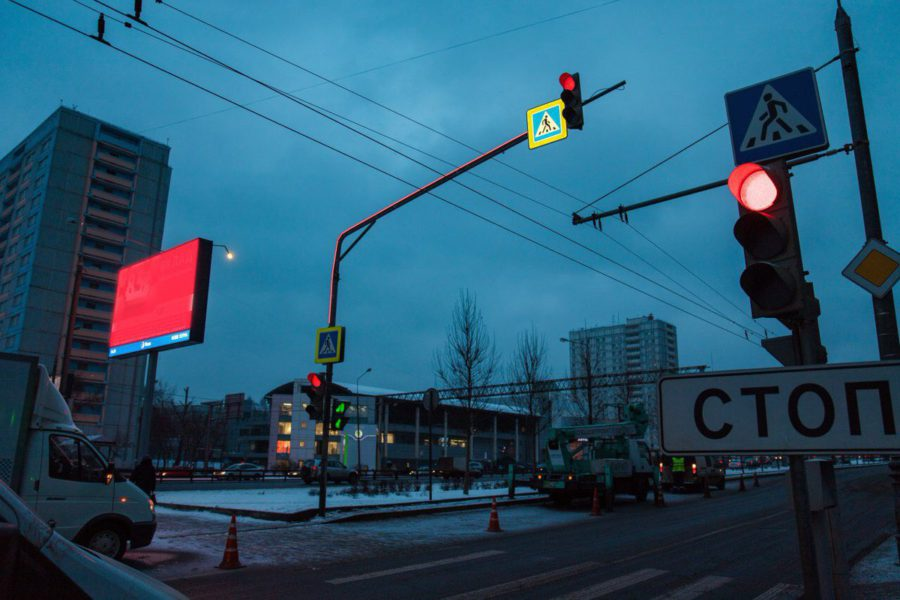tl: (729, 163, 815, 316), (555, 70, 592, 128), (303, 371, 328, 425)
